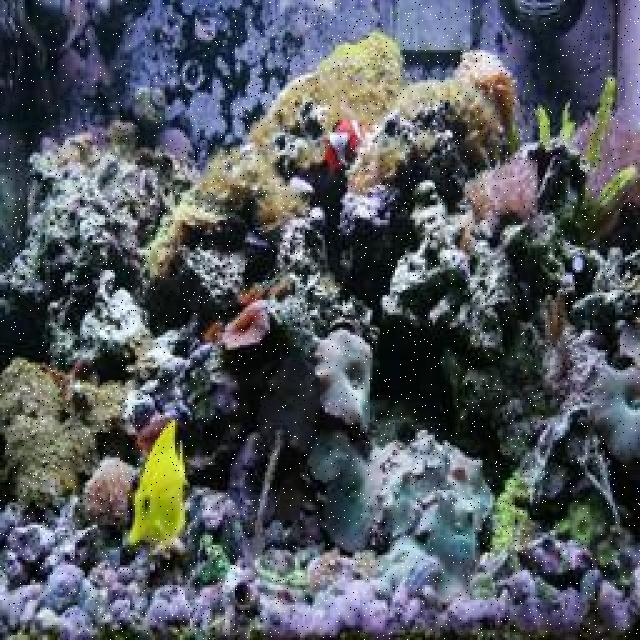fish: (123, 418, 189, 554), (310, 118, 365, 185)
reefs: (457, 153, 542, 230), (81, 455, 142, 521)
